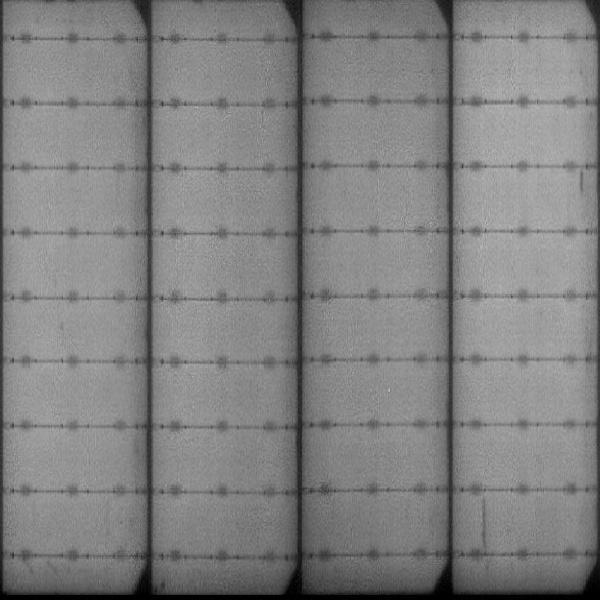scratch: (478, 493, 491, 559), (574, 169, 587, 200)
